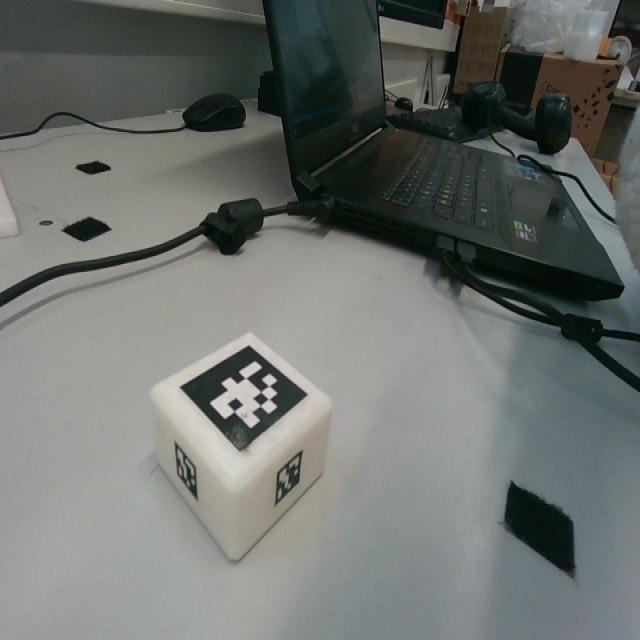Cube: (149, 330, 333, 562)
